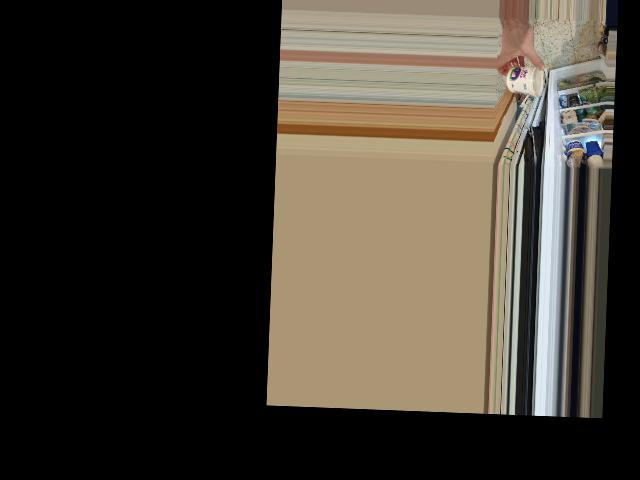cotage: (502, 65, 542, 98)
